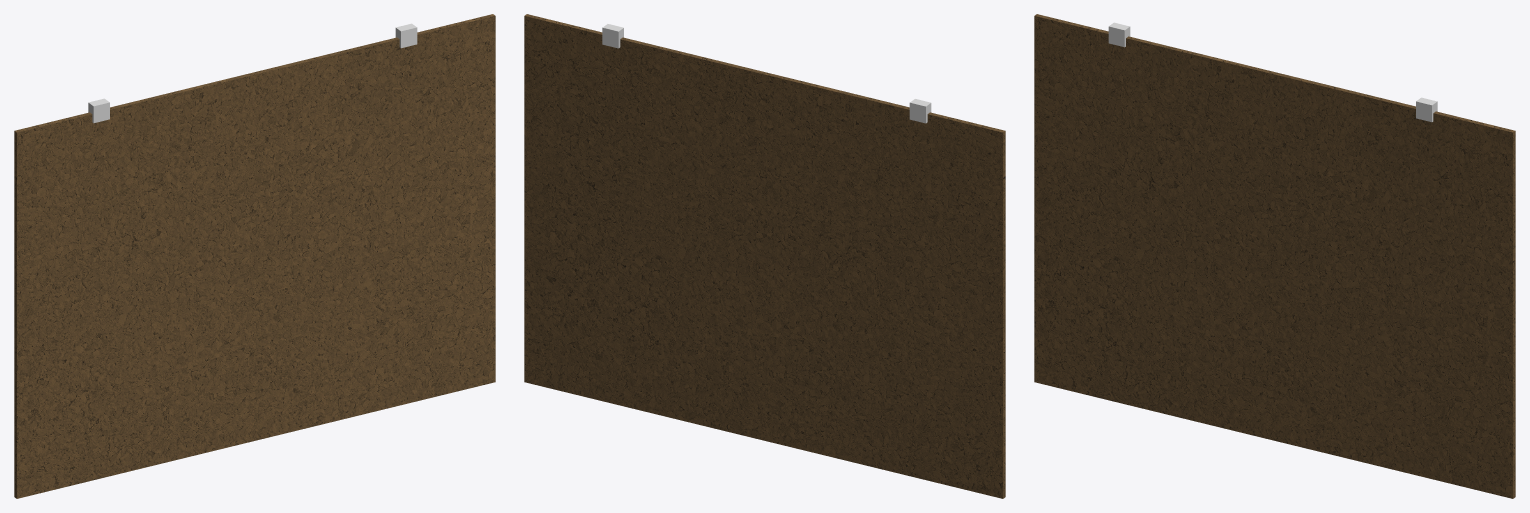
Rendered from CorkBoard.fbx.
The picture shows the model from 3 angles, left to right: view 1: azimuth 30°, elevation 25°; view 2: azimuth 150°, elevation 25°; view 3: azimuth 330°, elevation 25°; orthographic projection.
Parts seen in each view (by area): view 1: Cube.002_0; view 2: Cube.002_0; view 3: Cube.002_0.
Part boxes in pixels (x1,y1,x2,y2): Cube.002_0: (14,14,495,498); Cube.002_0: (524,14,1005,498); Cube.002_0: (1034,14,1515,498).
Size of the model in its own units: 1.45 by 1.09 by 0.0281.
